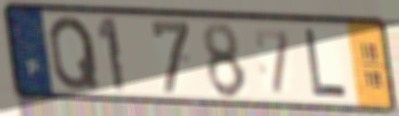1: (95, 15, 129, 96)
7: (149, 19, 191, 95), (254, 27, 292, 95)
8: (201, 20, 250, 100)
L: (302, 26, 351, 101)
Q: (47, 14, 103, 93)
